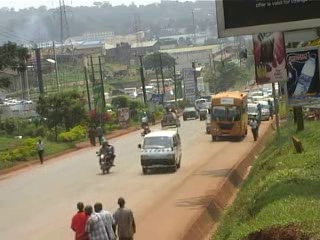Car: (157, 111, 183, 129), (179, 104, 199, 122)
Motorcycle: (93, 145, 116, 175), (140, 125, 153, 142)
